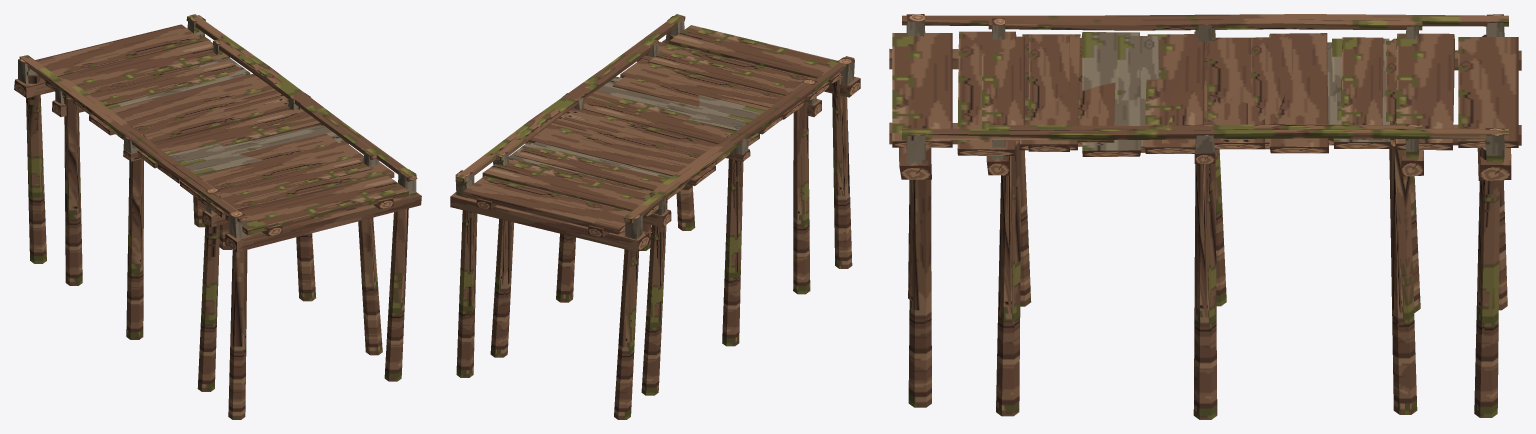
The model's file is OA_Bridges.fbx.
The picture shows the model from 3 angles, left to right: view 1: azimuth 30°, elevation 25°; view 2: azimuth 150°, elevation 25°; view 3: azimuth 270°, elevation 25°; orthographic projection. The views are drawn at different scales.
Visible parts, largest first — view 1: OA_Bridge_7m, OA_Bridge_5m; view 2: OA_Bridge_7m, OA_Bridge_5m; view 3: OA_Bridge_7m, OA_Bridge_5m.
Boxes of the visible parts, box(x1,y1,x2,y2) form: OA_Bridge_7m: box(14, 14, 421, 419); OA_Bridge_5m: box(52, 39, 382, 391); OA_Bridge_7m: box(450, 14, 860, 419); OA_Bridge_5m: box(490, 38, 821, 395); OA_Bridge_7m: box(889, 14, 1521, 419); OA_Bridge_5m: box(982, 18, 1423, 416).
Bounding box in the file's own units: 3.33 × 3.44 × 7.
